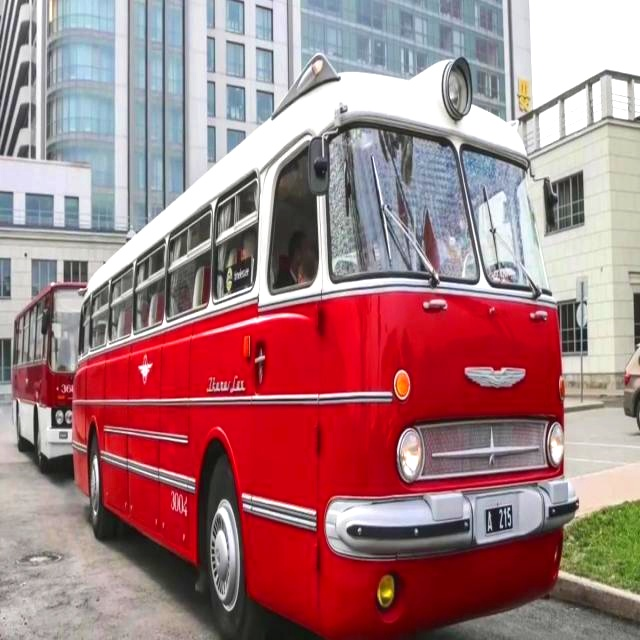bus: (63, 56, 615, 636), (4, 253, 84, 490)
